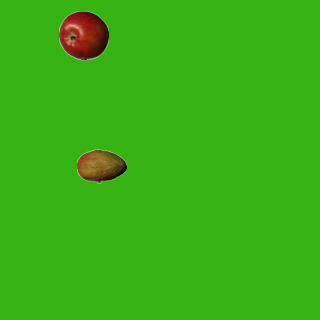Apple Braeburn: (58, 10, 108, 60)
Papaya: (76, 141, 126, 191)
